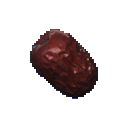gd: (24, 24, 118, 128)
